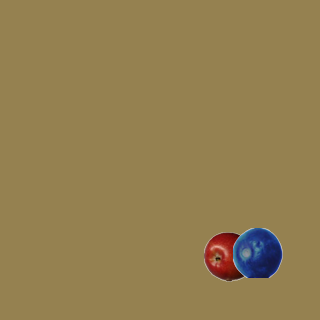Apple Braeburn: (203, 231, 253, 281)
Huckleberry: (232, 227, 282, 277)
